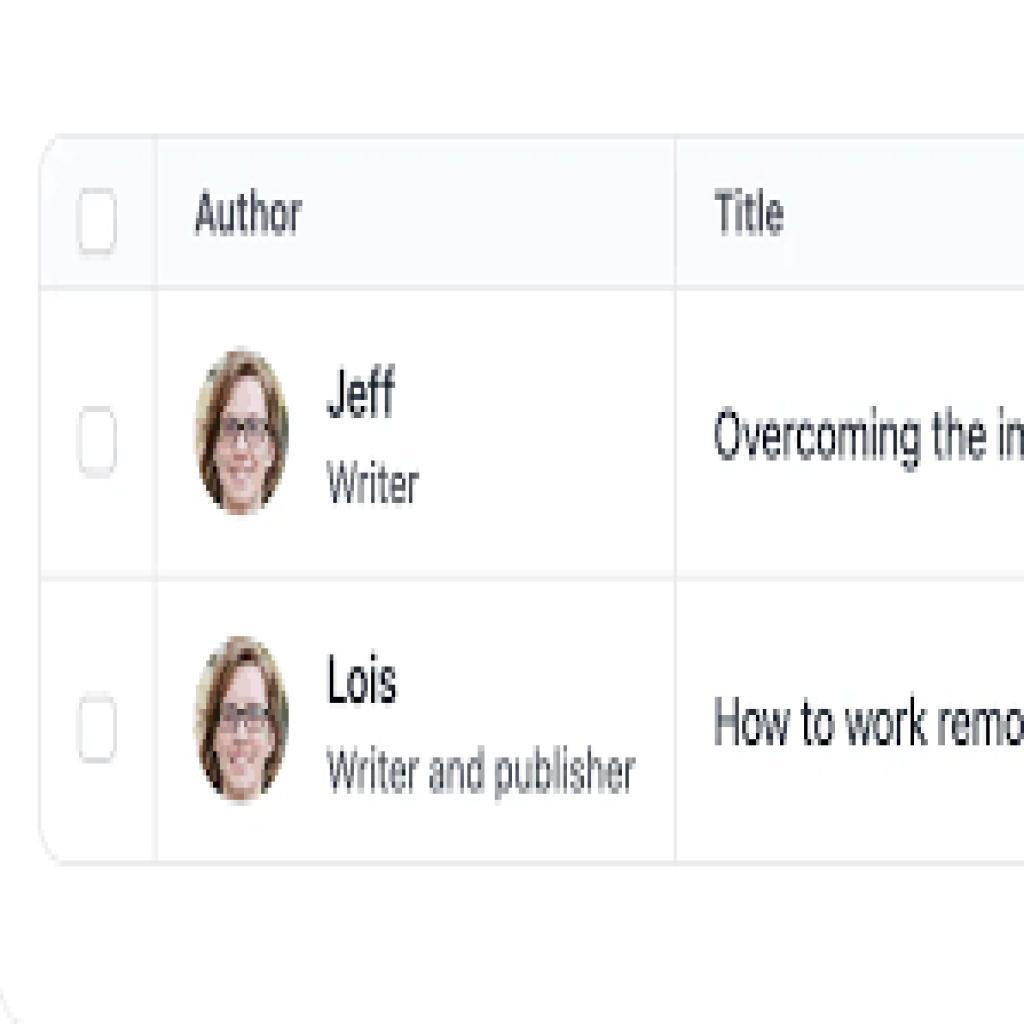checkbox: (76, 188, 121, 259), (77, 408, 120, 476), (80, 698, 114, 763)
table: (45, 143, 1024, 864)
